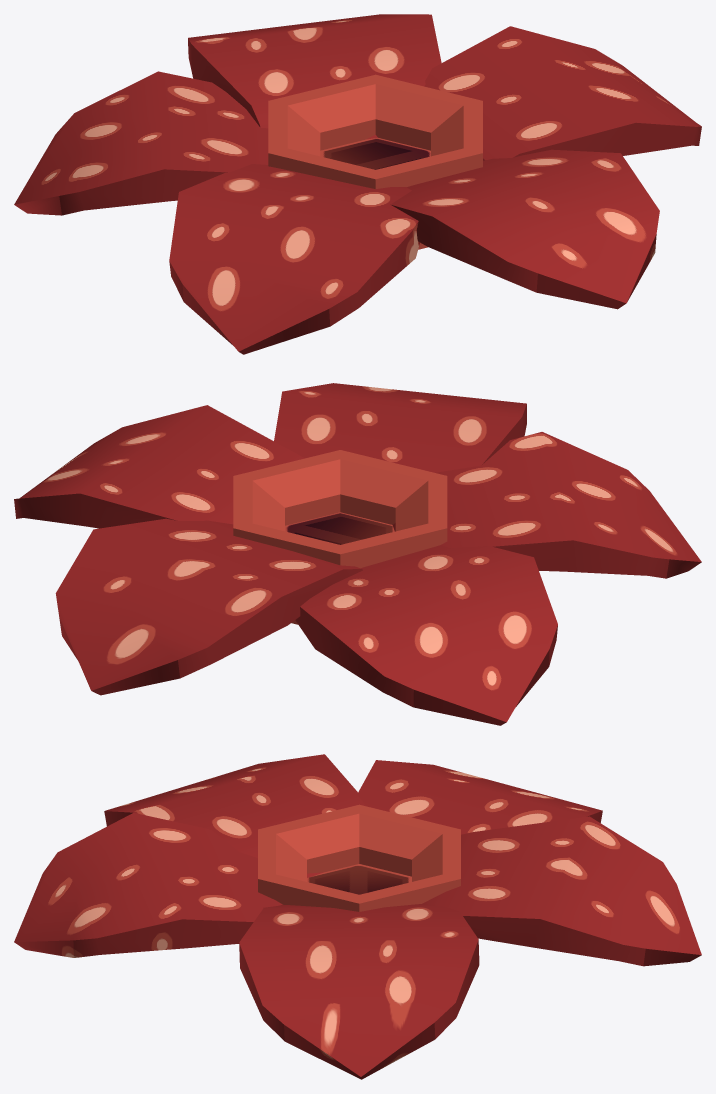
File: Schaefer_Rafflesia.fbx
3 renders of one model, top to bottom at view 1: azimuth 30°, elevation 25°; view 2: azimuth 150°, elevation 25°; view 3: azimuth 270°, elevation 25°, orthographic. The views are drawn at different scales.
Parts seen in each view (by area): view 1: Rafflesia; view 2: Rafflesia; view 3: Rafflesia.
Part boxes in pixels (x1,y1,x2,y2): Rafflesia: (14, 14, 701, 354); Rafflesia: (14, 383, 701, 725); Rafflesia: (14, 754, 701, 1079).
Bounding box in the file's own units: 119 × 20.65 × 128.
1 material, 1 textured.
